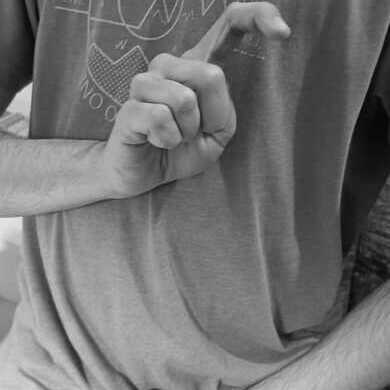X: (106, 1, 291, 200)
